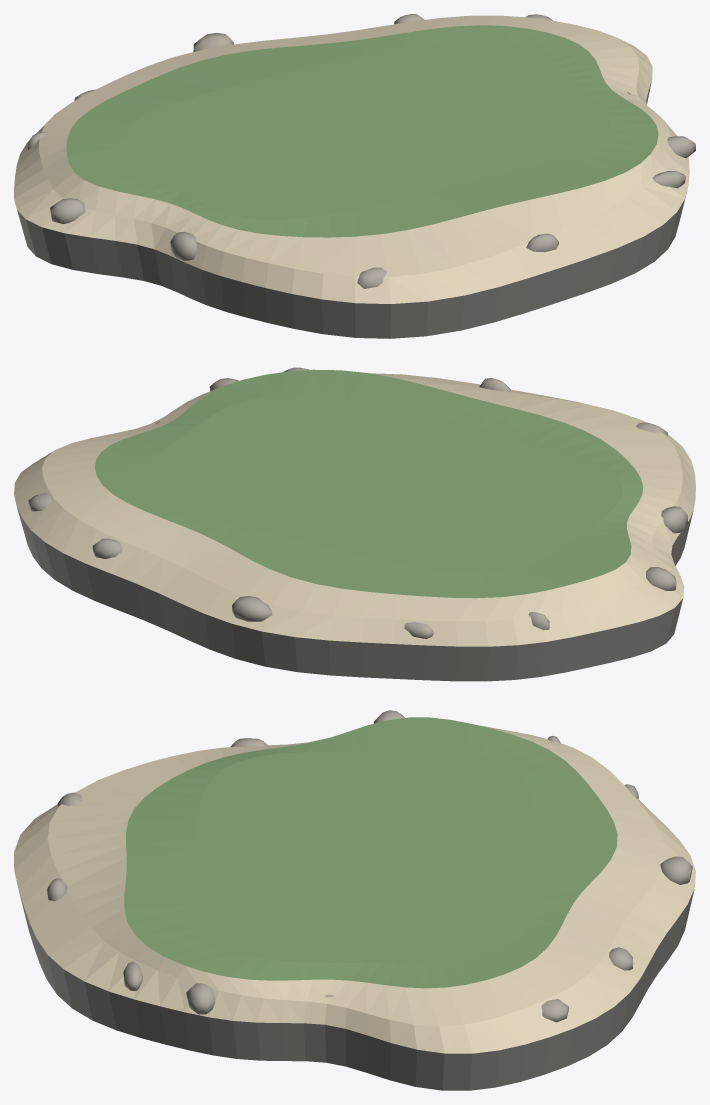
The model's file is MIL_Island_S.fbx.
The picture shows the model from 3 angles, top to bottom: view 1: azimuth 30°, elevation 25°; view 2: azimuth 150°, elevation 25°; view 3: azimuth 270°, elevation 25°; orthographic projection. The views are drawn at different scales.
Parts seen in each view (by area): view 1: MIL_Island_S_MAT_IslandGrass, MIL_Island_S_MAT_IslandSand, Bank_3.001, MIL_Island_S_MAT_IslandCliff; view 2: MIL_Island_S_MAT_IslandGrass, MIL_Island_S_MAT_IslandSand, Bank_3.001, MIL_Island_S_MAT_IslandCliff; view 3: MIL_Island_S_MAT_IslandGrass, MIL_Island_S_MAT_IslandSand, Bank_3.001, MIL_Island_S_MAT_IslandCliff.
Part boxes in pixels (x1,y1,x2,y2): MIL_Island_S_MAT_IslandGrass: (66, 25, 658, 237); MIL_Island_S_MAT_IslandSand: (14, 15, 689, 303); Bank_3.001: (17, 81, 686, 338); MIL_Island_S_MAT_IslandCliff: (27, 14, 695, 288); MIL_Island_S_MAT_IslandGrass: (95, 369, 643, 598); MIL_Island_S_MAT_IslandSand: (14, 373, 695, 646); Bank_3.001: (17, 507, 693, 681); MIL_Island_S_MAT_IslandCliff: (28, 367, 687, 638); MIL_Island_S_MAT_IslandGrass: (124, 717, 617, 988); MIL_Island_S_MAT_IslandSand: (14, 724, 695, 1053); Bank_3.001: (18, 889, 694, 1090); MIL_Island_S_MAT_IslandCliff: (47, 710, 692, 1022).
Bounding box in the file's own units: 4416 × 455 × 3820.
